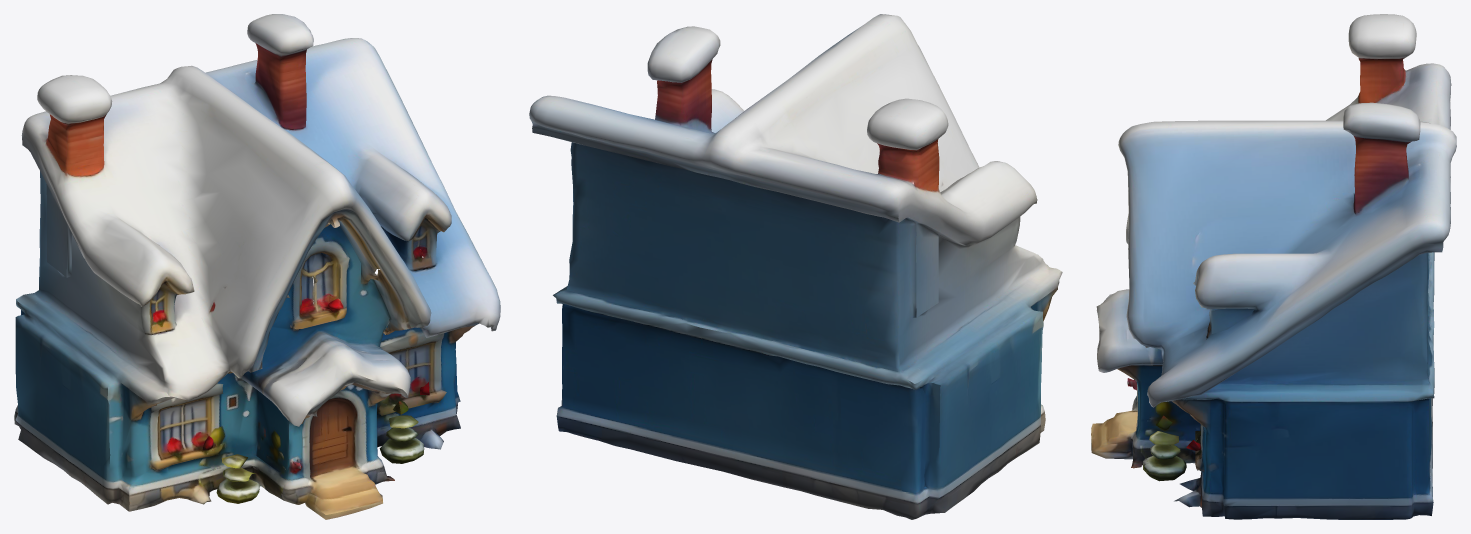
File: house_cozy.glb
3 renders of one model, left to right at view 1: azimuth 30°, elevation 25°; view 2: azimuth 150°, elevation 25°; view 3: azimuth 270°, elevation 25°, orthographic. The views are drawn at different scales.
Visible parts, largest first — view 1: tripo_node_822e1a88; view 2: tripo_node_822e1a88; view 3: tripo_node_822e1a88.
Part boxes in pixels (x1,y1,x2,y2): tripo_node_822e1a88: (14, 14, 500, 519); tripo_node_822e1a88: (529, 14, 1062, 519); tripo_node_822e1a88: (1091, 14, 1456, 519).
Size of the model in its own units: 99.64 by 95.49 by 85.84.
1 material, 1 textured.
